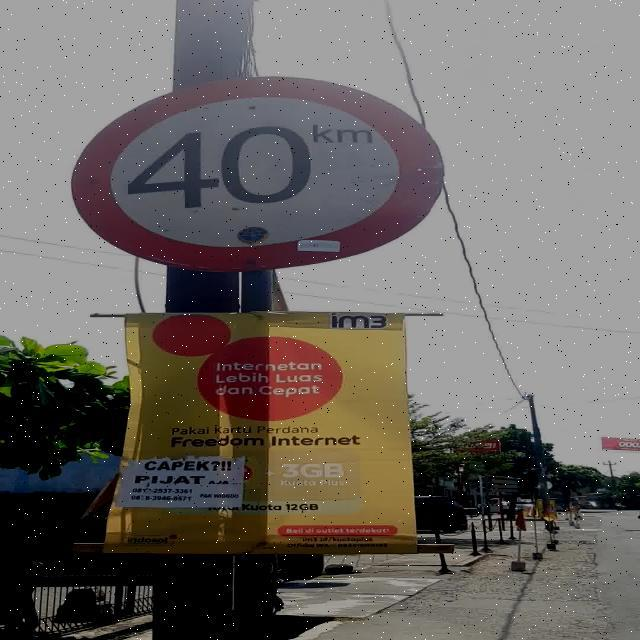Kecepatan Maks. 40 km: (67, 75, 445, 274)
